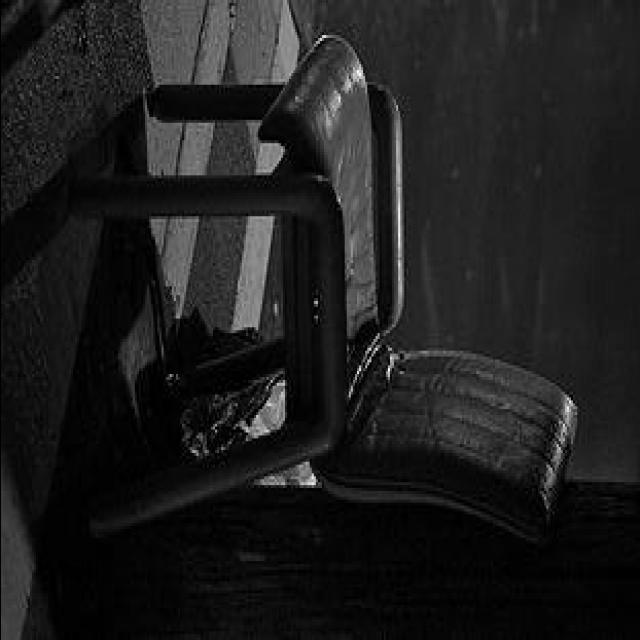chair: (66, 31, 578, 572)
